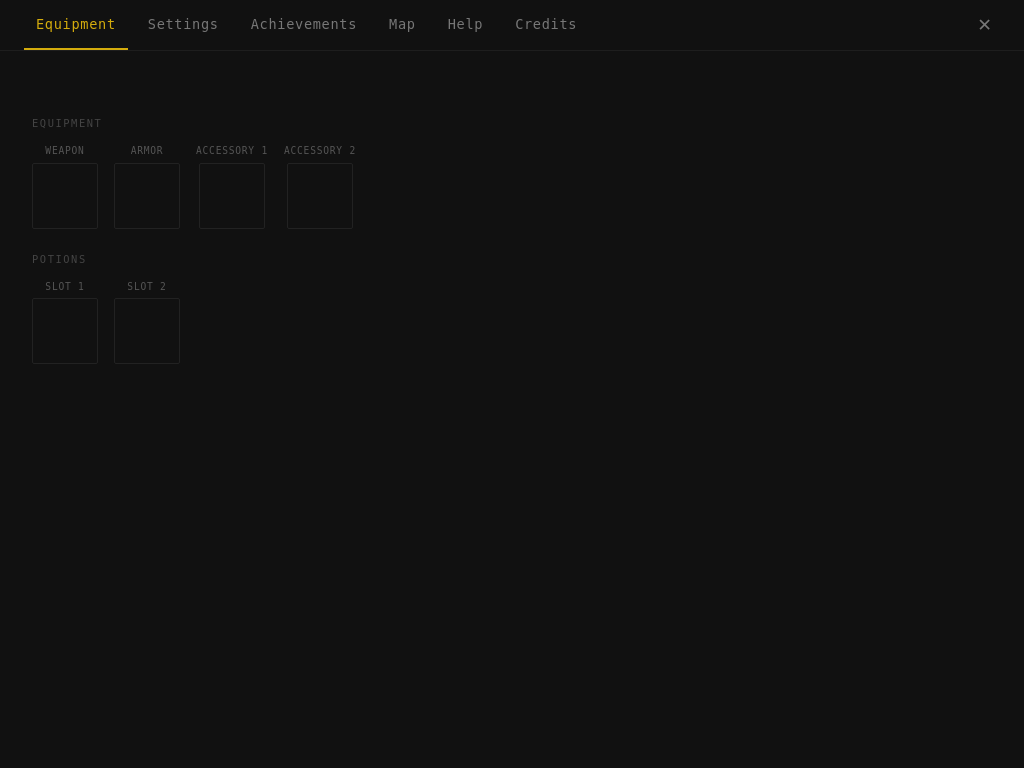
Test: CharacterScreen › Map tab › clicking it shows the map and marks it active
The image size is (1024, 768).
Click the button with class "tab-btn" showing "Map": (402, 25) [377, 0, 428, 50]
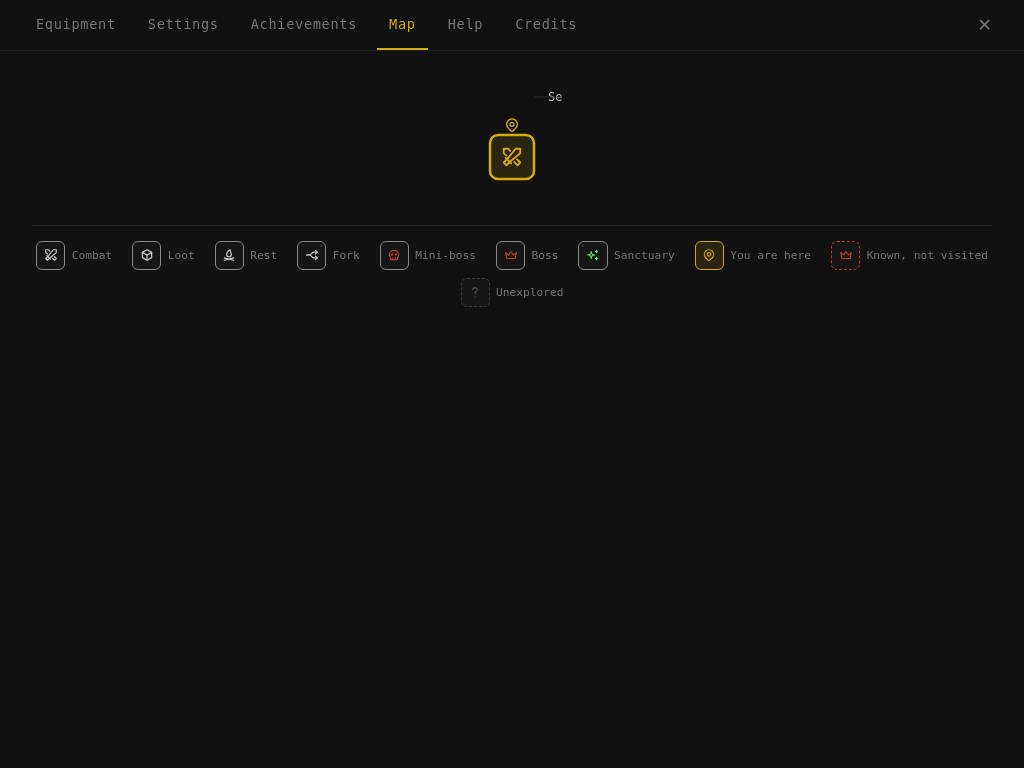
Check: the element with class "equipment-panel" is gone
